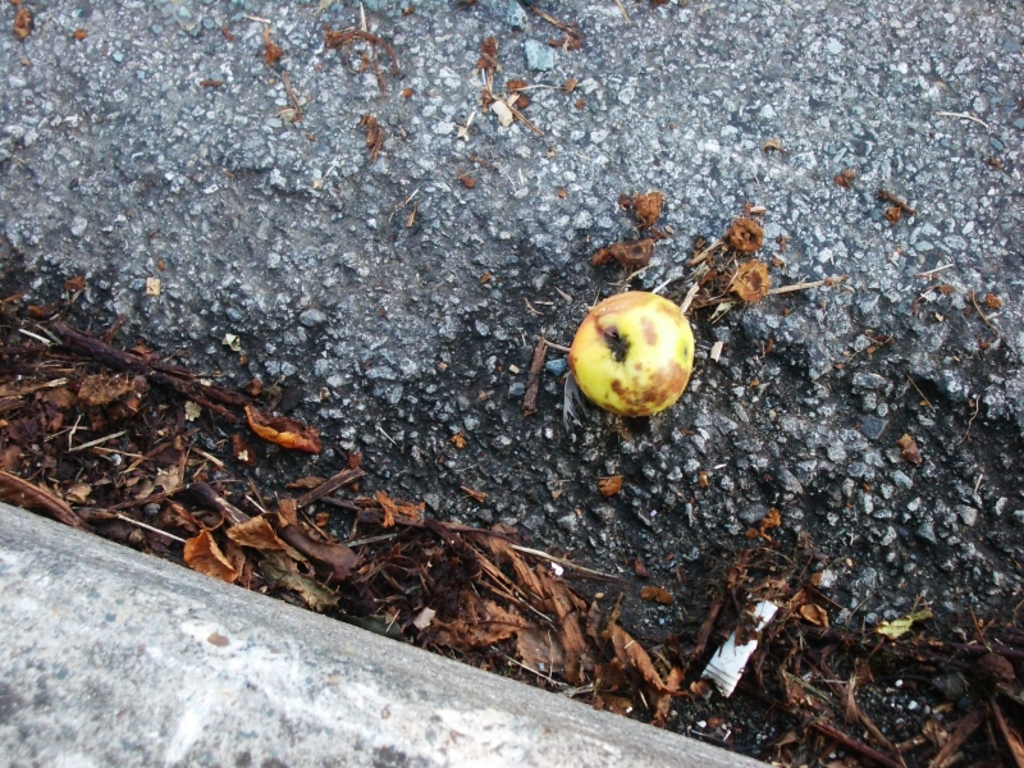Apple: (561, 288, 705, 430)
